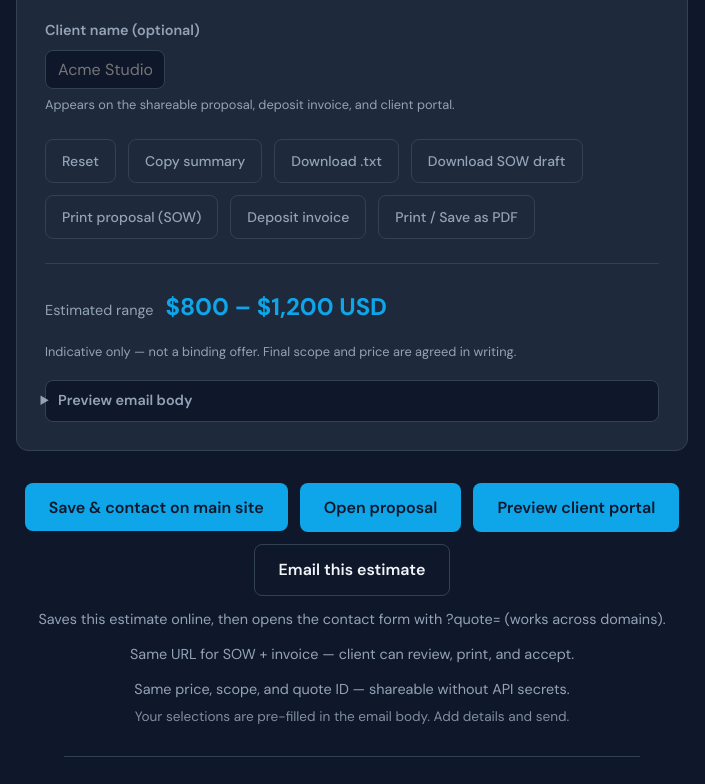
Calculator › expands preview and shows summary text
(page scrolled)
Step 1. Click the heading "Preview email body" → coordinates (125, 400), box x1=58 y1=392 x2=192 y2=410
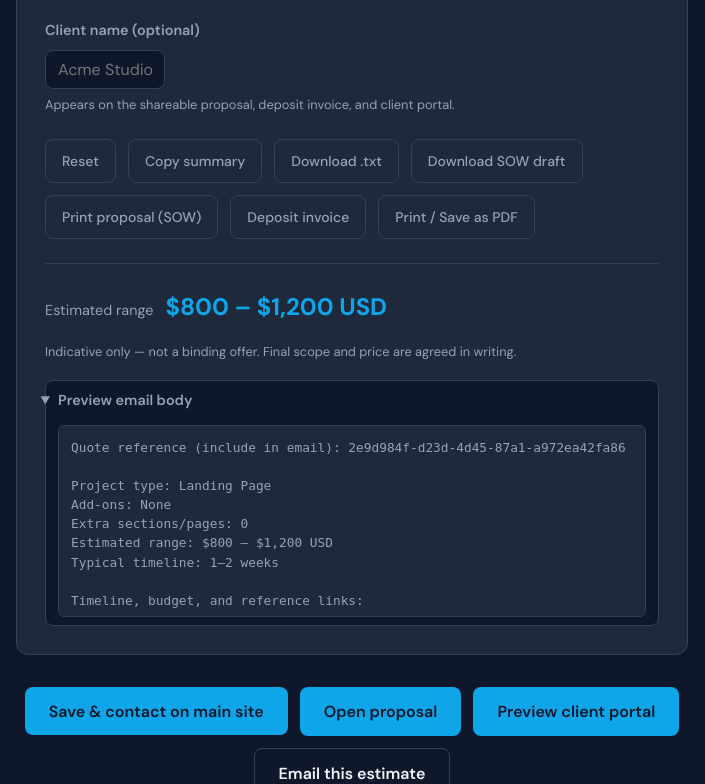
expect the text with class "calc-preview-body" is shown: met, box x1=58 y1=424 x2=646 y2=616
expect the text with class "calc-preview-body" shows "Project type: Landing Page": met, box x1=71 y1=440 x2=626 y2=608
